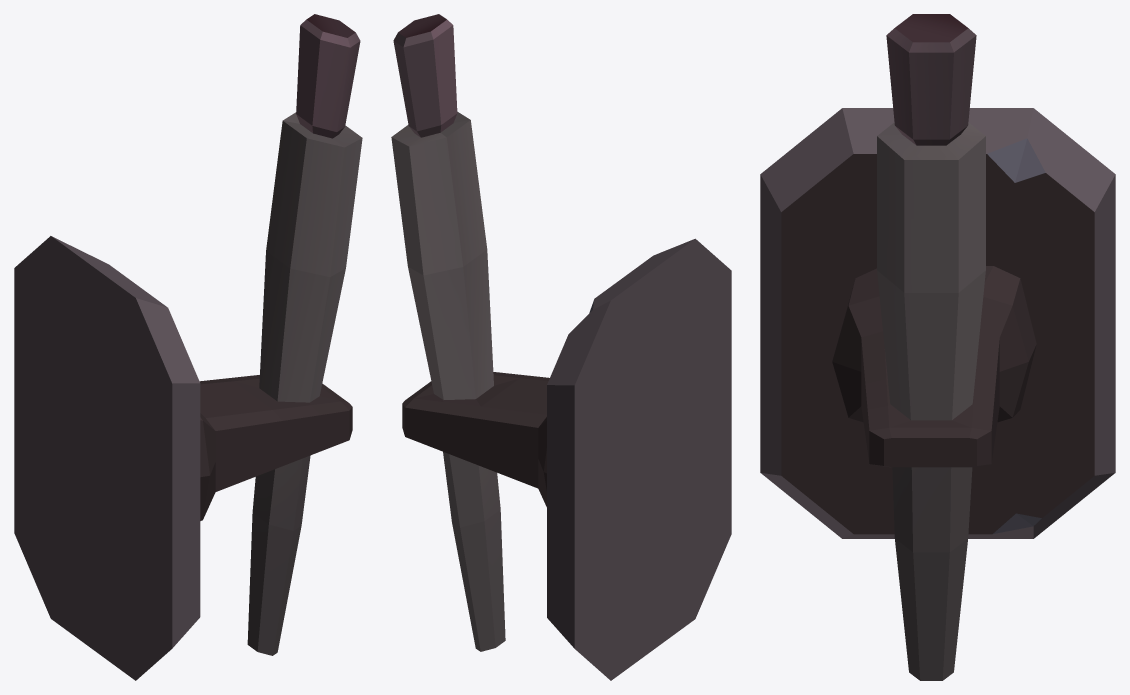
The model's file is torch.fbx.
3 views of the same model, side by side, from view 1: azimuth 30°, elevation 25°; view 2: azimuth 150°, elevation 25°; view 3: azimuth 270°, elevation 25° (orthographic). The views are drawn at different scales.
Visible parts, largest first — view 1: torch; view 2: torch; view 3: torch.
Boxes of the visible parts, x1,y1,x2,y2 form: torch: (14,14,362,680); torch: (391,14,731,680); torch: (760,14,1115,680).
Bounding box in the file's own units: 44.39 × 102 × 47.71.
